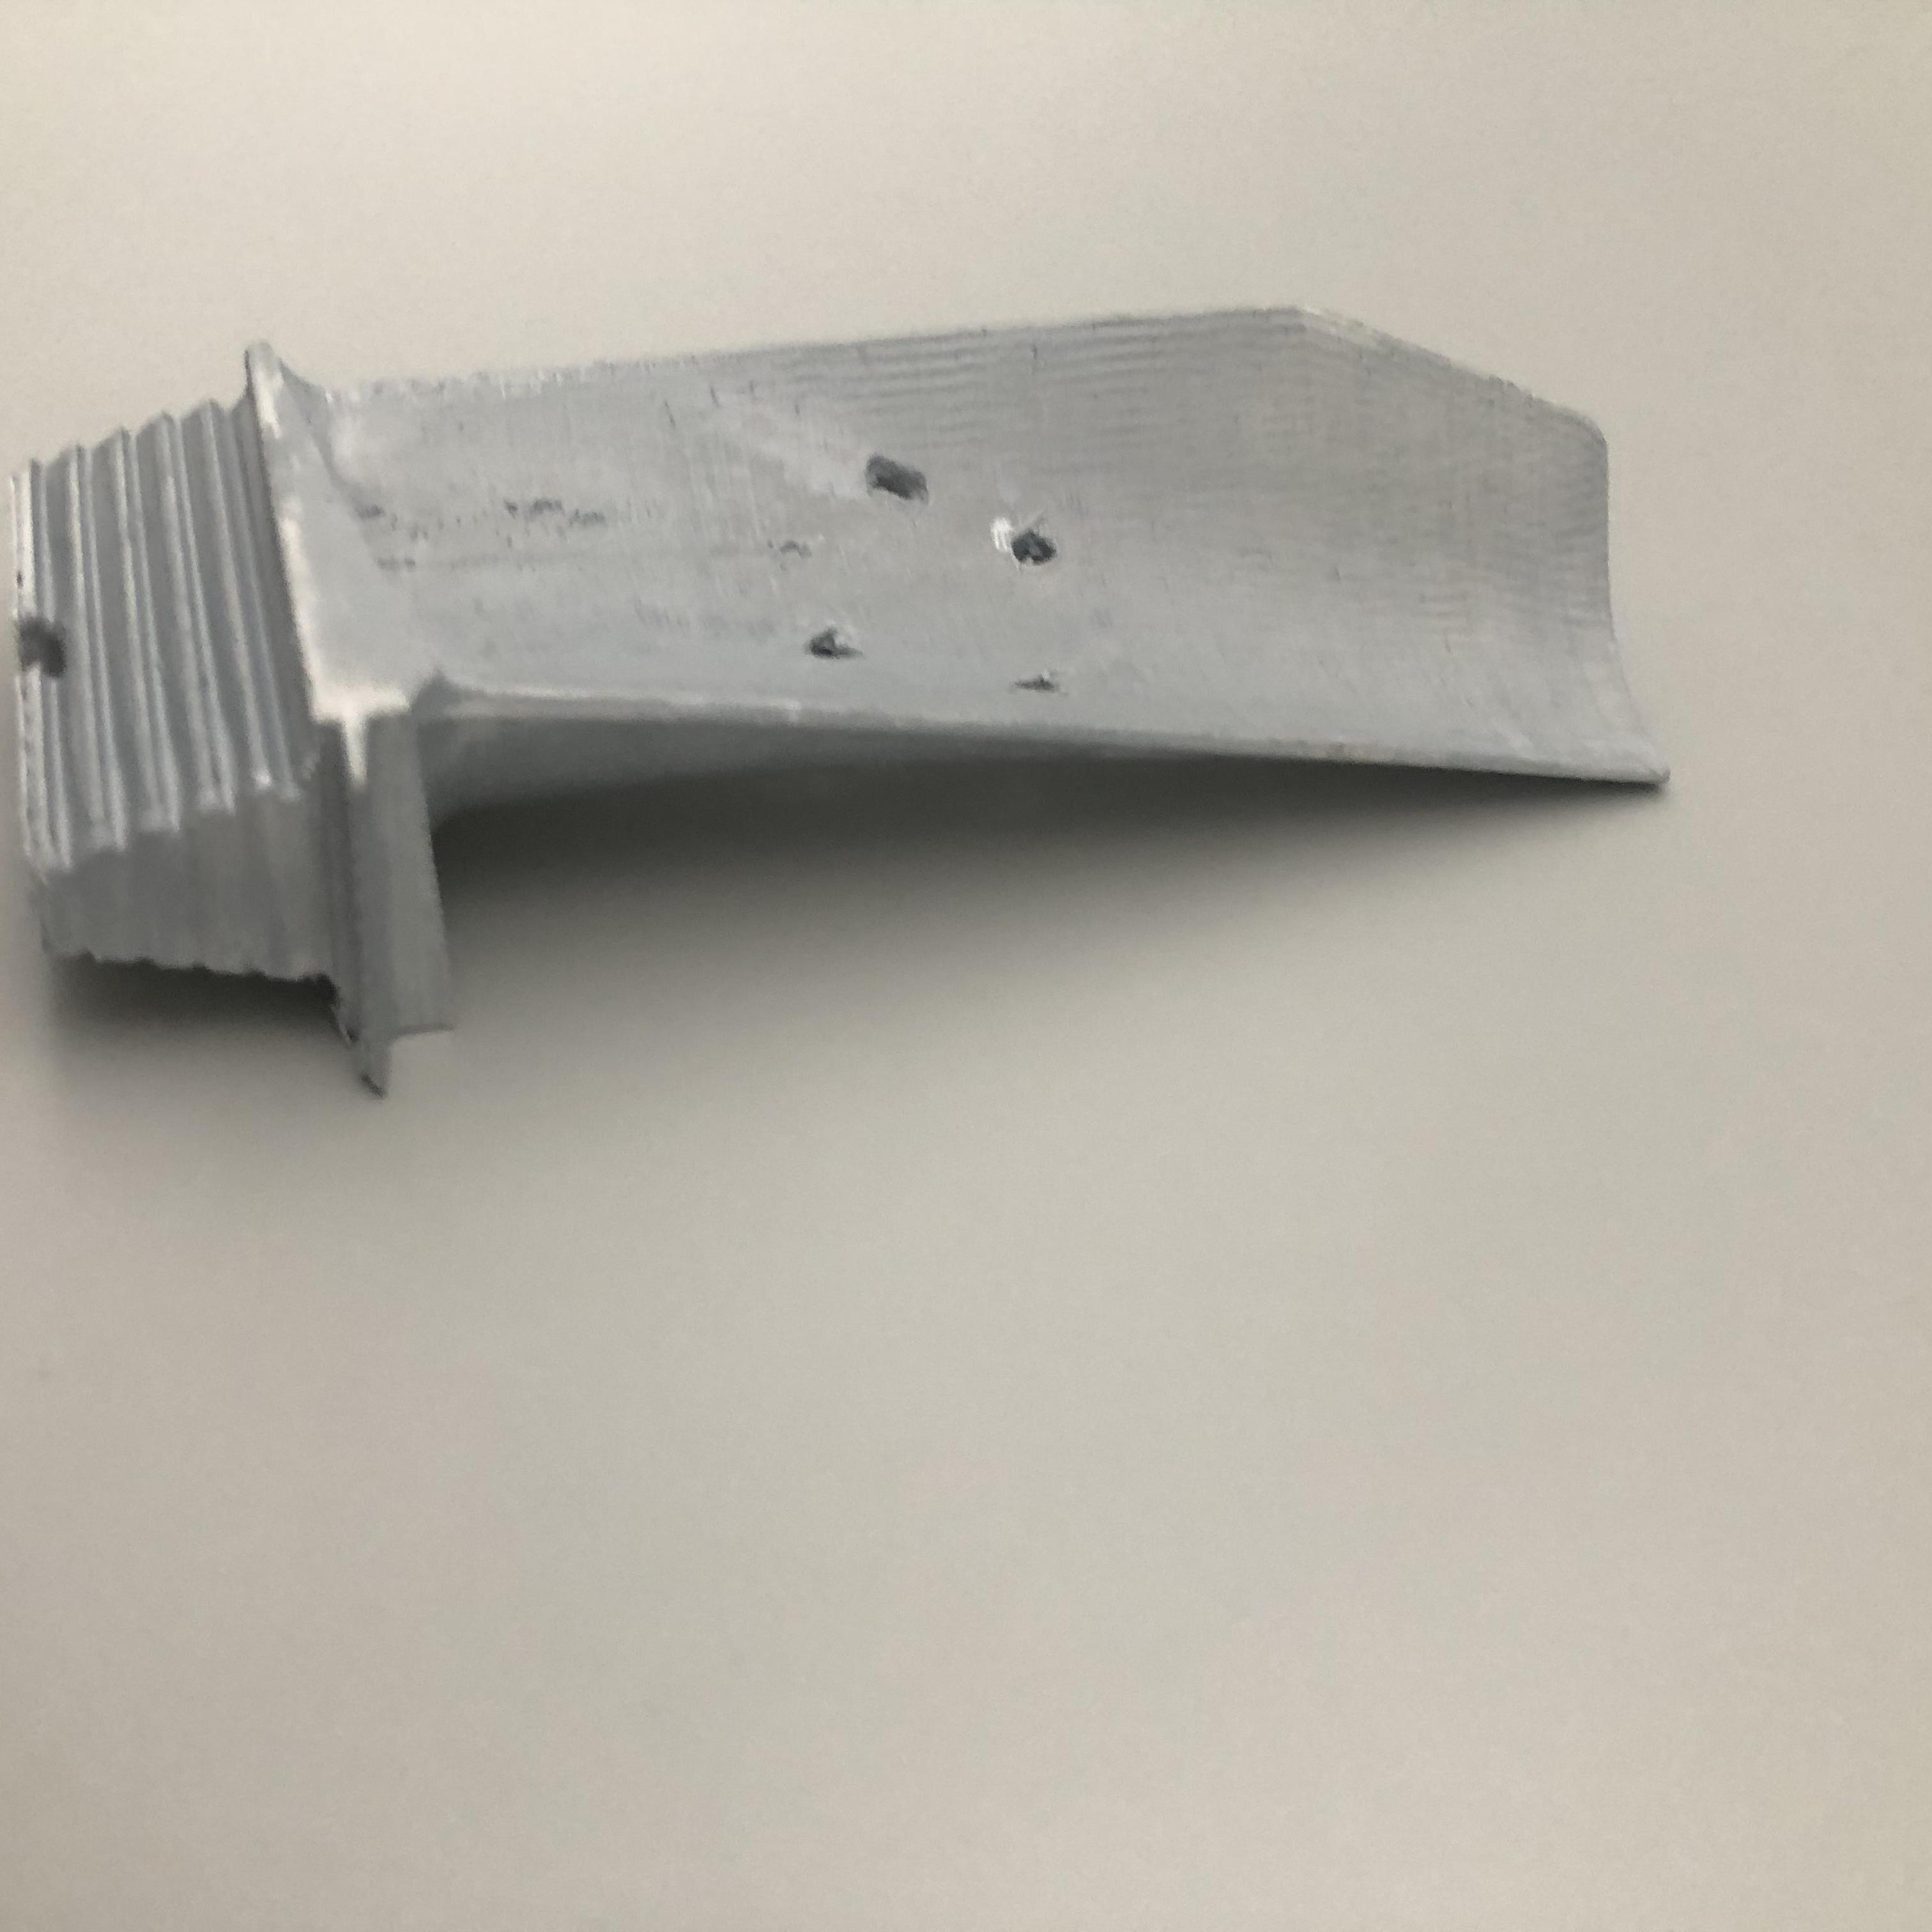breakdown: (807, 451, 1081, 715)
